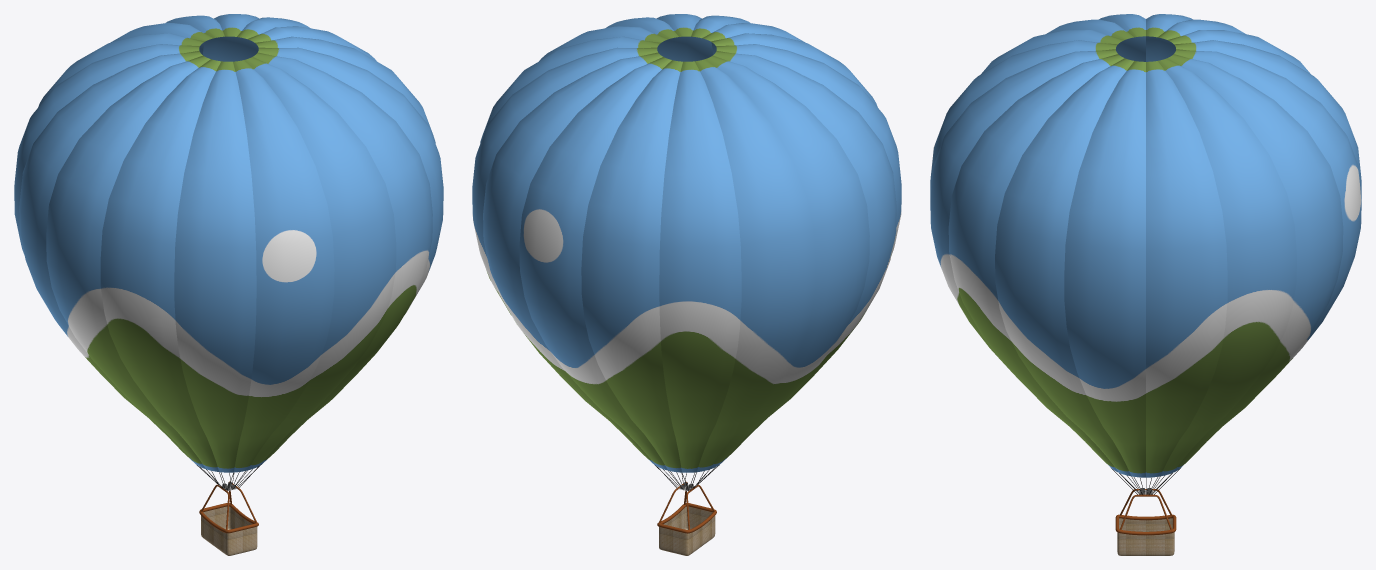
File: CesiumBalloon.dae
3 renders of one model, left to right at view 1: azimuth 30°, elevation 25°; view 2: azimuth 150°, elevation 25°; view 3: azimuth 270°, elevation 25°, orthographic.
Visible parts, largest first — view 1: Balloon, Basket; view 2: Balloon, Basket; view 3: Balloon, Basket, Basket_top_edge.
Part boxes in pixels (x1,y1,x2,y2): Balloon: [14, 14, 443, 472]; Basket: [201, 506, 257, 555]; Balloon: [472, 14, 901, 472]; Basket: [659, 506, 715, 555]; Balloon: [930, 14, 1361, 477]; Basket: [1117, 518, 1174, 555]; Basket_top_edge: [1115, 514, 1176, 535].
Bounding box in the file's own units: 14.47 × 14.47 × 18.54.
Materials: 5 (3 with a texture image).
